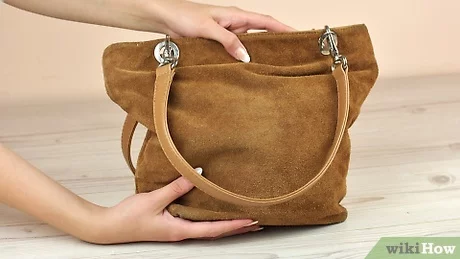cartera: (98, 39, 375, 225)
gamuza: (140, 42, 374, 208)
